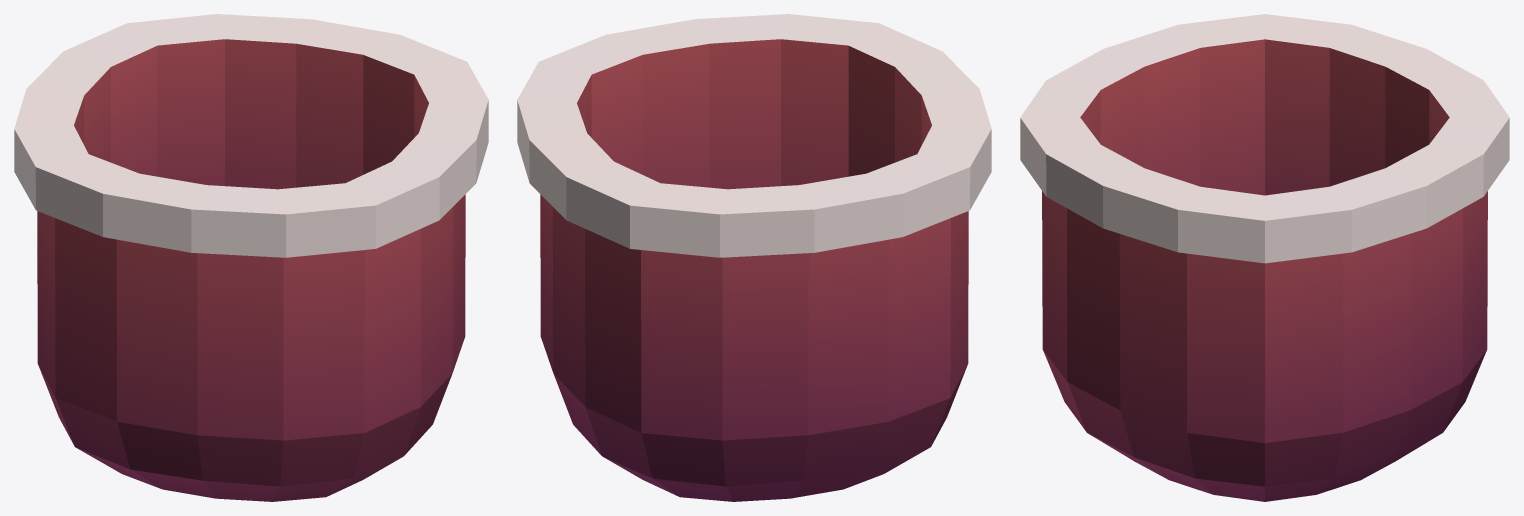
File: PlantPot_45.fbx
3 views of the same model, side by side, from view 1: azimuth 30°, elevation 25°; view 2: azimuth 150°, elevation 25°; view 3: azimuth 270°, elevation 25° (orthographic).
Parts seen in each view (by area): view 1: PlantPot_45; view 2: PlantPot_45; view 3: PlantPot_45.
Boxes of the visible parts, <box> form: PlantPot_45: <box>14,14,488,501</box>; PlantPot_45: <box>517,14,991,501</box>; PlantPot_45: <box>1020,14,1509,501</box>.
Bounding box in the file's own units: 28.57 × 20.77 × 28.57.
